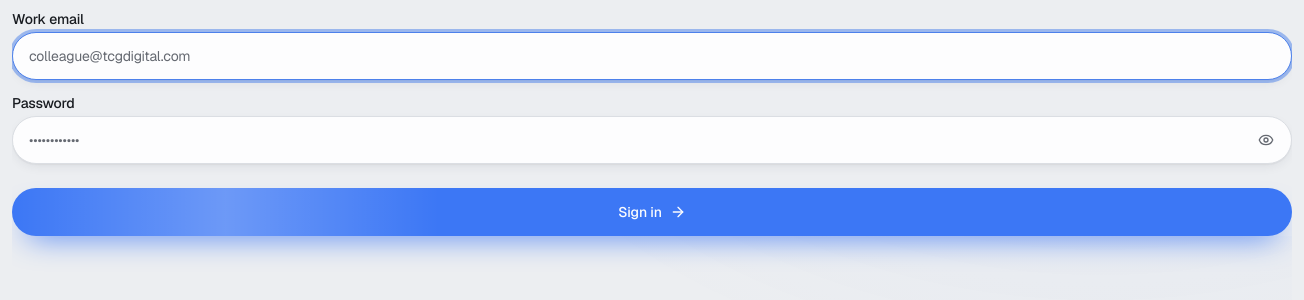
LoginForm › rejects passwords shorter than 8 characters
In the field labelled "Work email": (652, 56) [12,32,1292,80], type "tcg@tcgdigital.com"
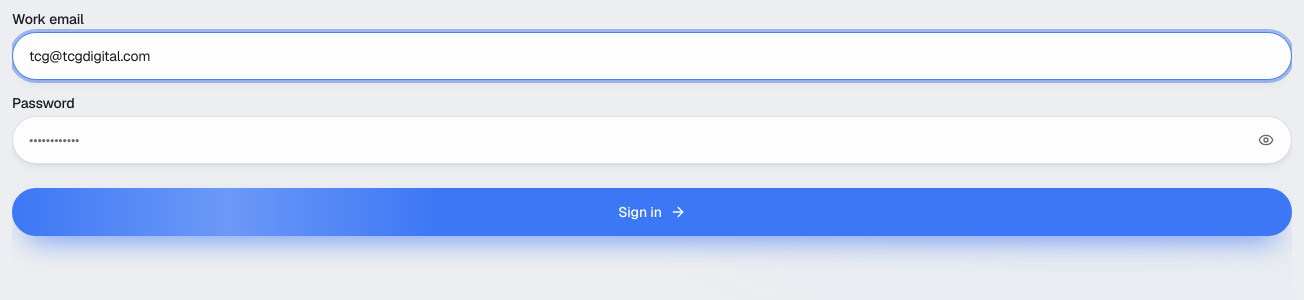
In the password field labelled "Password": (652, 140) [12,116,1292,164], type "short"
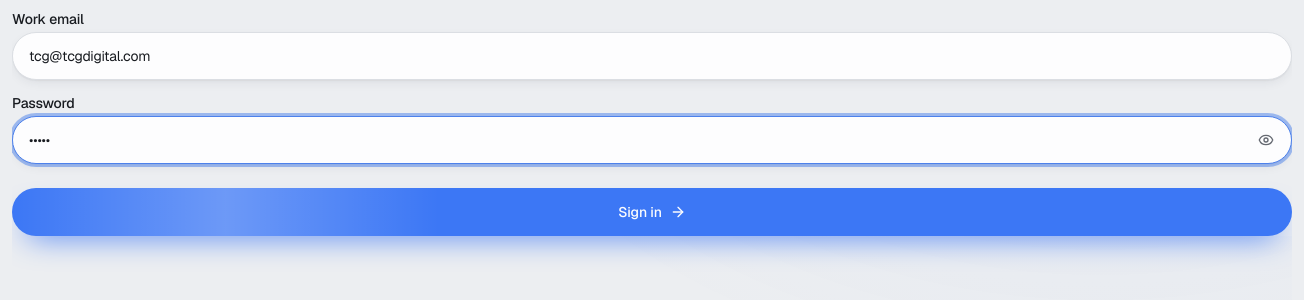
Click the button "Sign in": (652, 212) [12,188,1292,236]
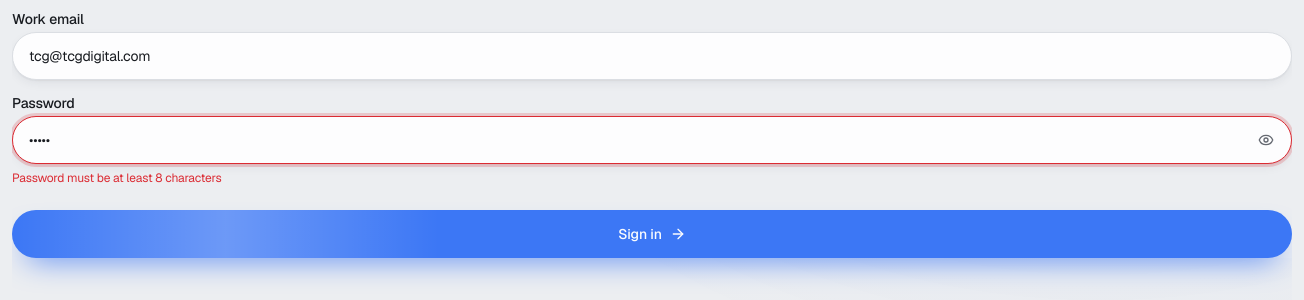
Expected: the text "Password must be at least 8 characters" is shown, [12,170,222,186]
